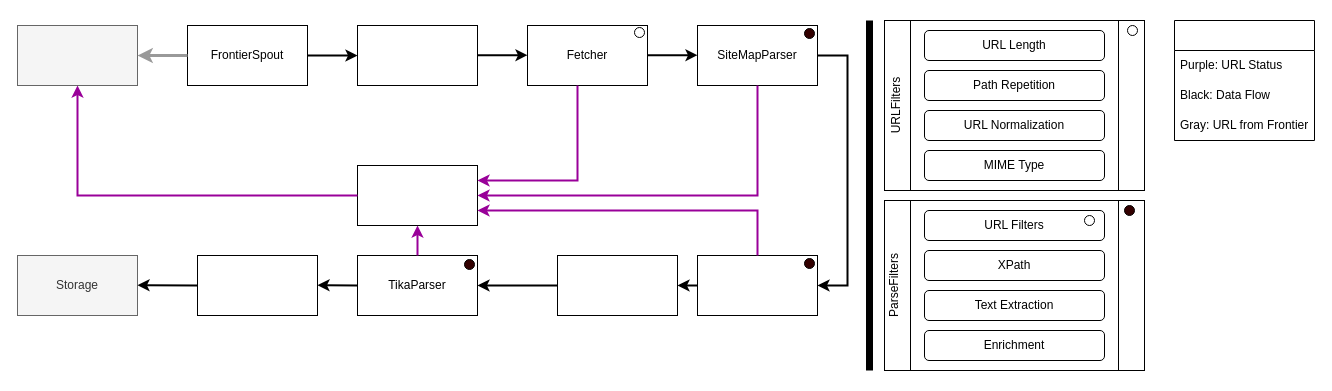
This 1332x391 diagram has some shape labels left out. The shapes that lost their labels are listed below. From the top down, each one's box as (x1, y1, x2, y2) in pixels, then its label:
(16, 24, 138, 86): Frontier
(356, 24, 478, 86): URLPartitonier
(1174, 20, 1314, 140): Legend
(356, 164, 478, 226): StatusUpdater
(196, 254, 318, 316): Indexer
(556, 254, 678, 316): TikaShunt
(696, 254, 818, 316): JSoupParser
